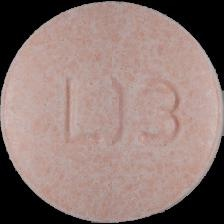63187-467: (0, 0, 224, 224)
